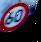Speed Limit -60-: (0, 1, 32, 34)
